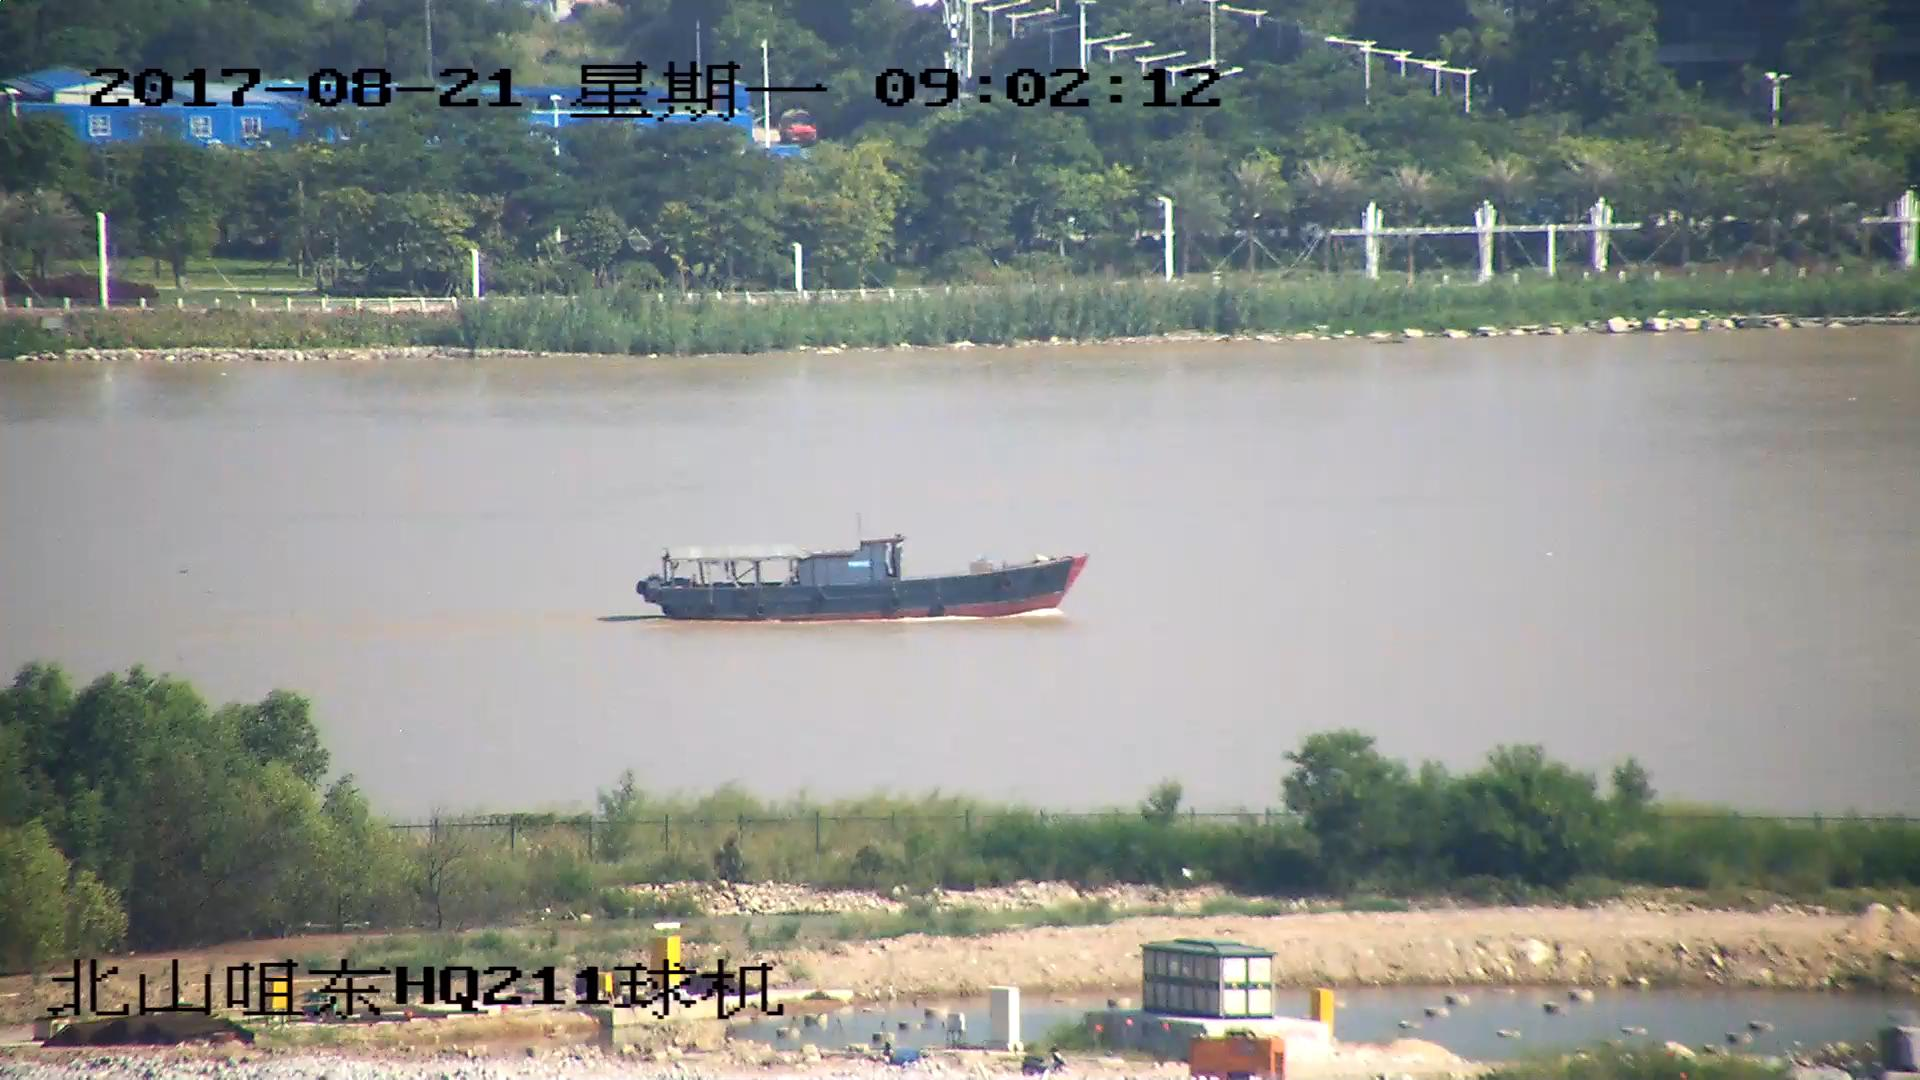fishing boat: (640, 536, 1090, 624)
